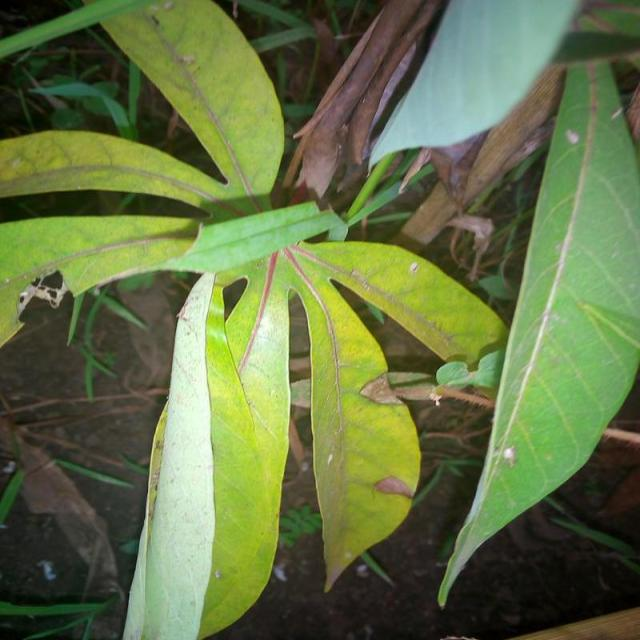cassava leaf: (436, 57, 638, 609), (122, 267, 290, 638), (366, 0, 581, 174)
